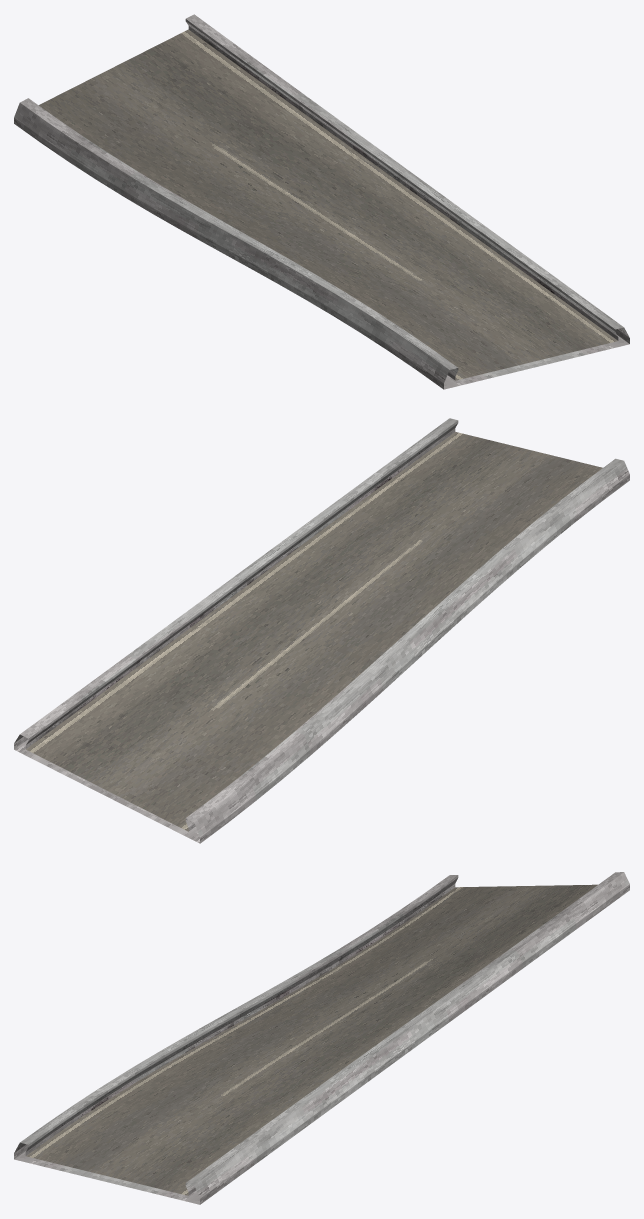
The model's file is road-Straight-Flat-HalfBankedLeft-Down1-Center-Size4.glb.
3 views of the same model, one above another, from view 1: azimuth 30°, elevation 25°; view 2: azimuth 150°, elevation 25°; view 3: azimuth 330°, elevation 25° (orthographic).
Visible parts, largest first — view 1: road-Straight-Flat-HalfBankedLeft-Down1-Center-Size4; view 2: road-Straight-Flat-HalfBankedLeft-Down1-Center-Size4; view 3: road-Straight-Flat-HalfBankedLeft-Down1-Center-Size4.
Boxes of the visible parts, x1,y1,x2,y2 form: road-Straight-Flat-HalfBankedLeft-Down1-Center-Size4: (14, 14, 629, 389); road-Straight-Flat-HalfBankedLeft-Down1-Center-Size4: (14, 418, 629, 843); road-Straight-Flat-HalfBankedLeft-Down1-Center-Size4: (14, 872, 629, 1204).
Size of the model in its own units: 1 by 0.3438 by 4.
Materials: 2 (2 with a texture image).
